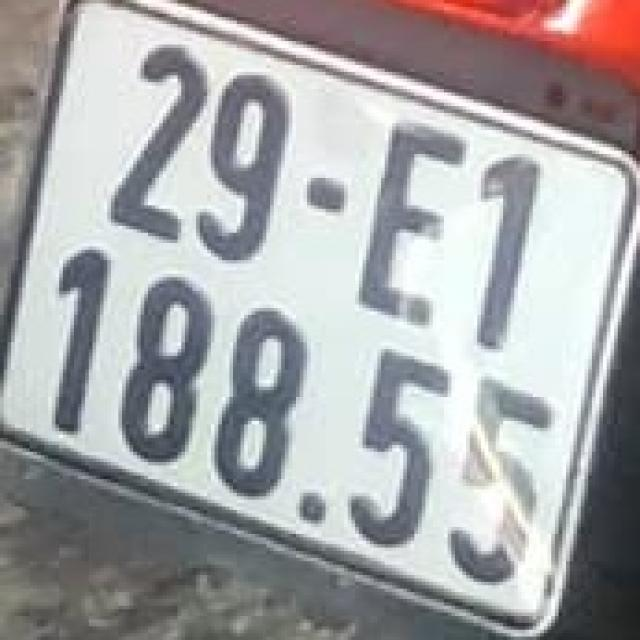1: (470, 147, 547, 346), (44, 246, 115, 438)
2: (104, 41, 204, 243)
5: (448, 370, 551, 585), (348, 342, 448, 551)
8: (211, 301, 307, 500), (118, 270, 211, 466)
9: (196, 69, 292, 260)
E: (355, 113, 466, 328)
